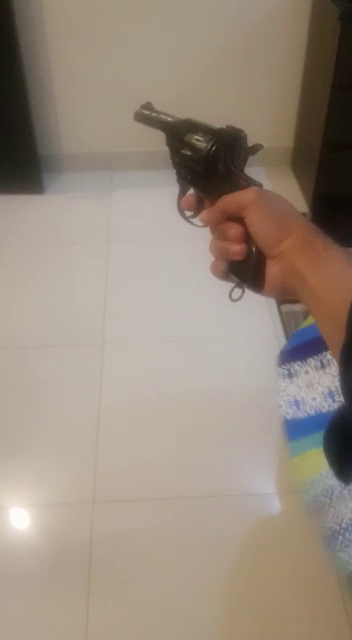handgun: (121, 103, 316, 357)
